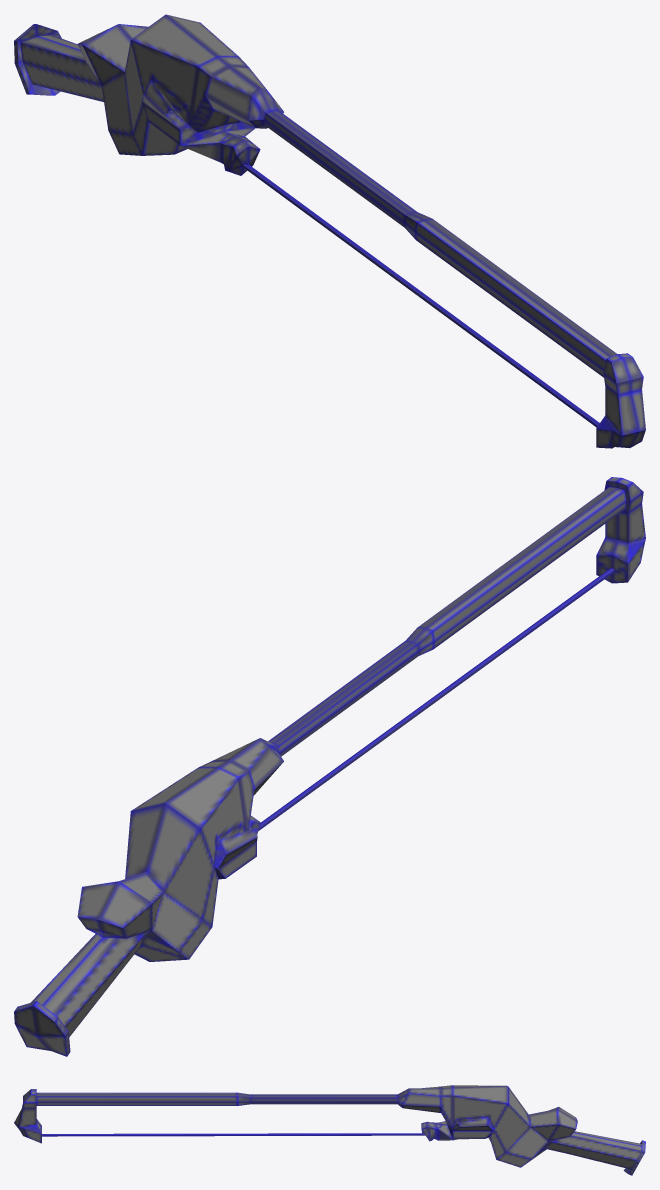
Rendered from Sword.fbx.
3 renders of one model, top to bottom at view 1: azimuth 30°, elevation 25°; view 2: azimuth 150°, elevation 25°; view 3: azimuth 270°, elevation 25°, orthographic. The views are drawn at different scales.
Visible parts, largest first — view 1: pCube1; view 2: pCube1; view 3: pCube1.
Part boxes in pixels (x1,y1,x2,y2): pCube1: (14,14,645,448); pCube1: (14,477,645,1056); pCube1: (14,1085,645,1175).
Size of the model in its own units: 1.32 by 2.25 by 14.99.
Materials: 1 (1 with a texture image).
